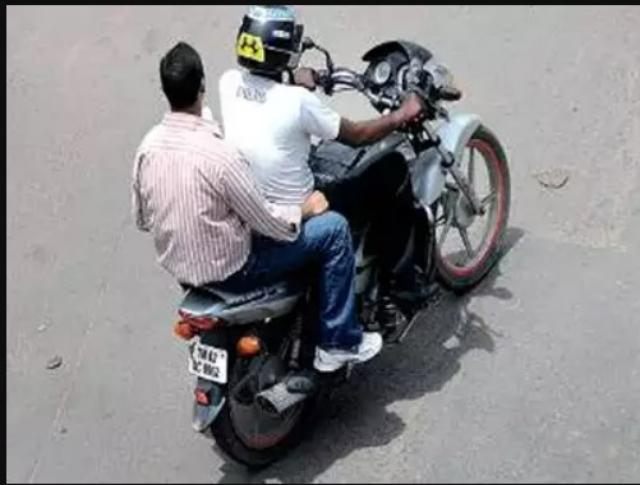licensePlate: (183, 339, 234, 387)
motorcycle: (140, 6, 514, 464)
withHelmet: (240, 11, 306, 79)
withoutHelmet: (157, 45, 212, 108)
